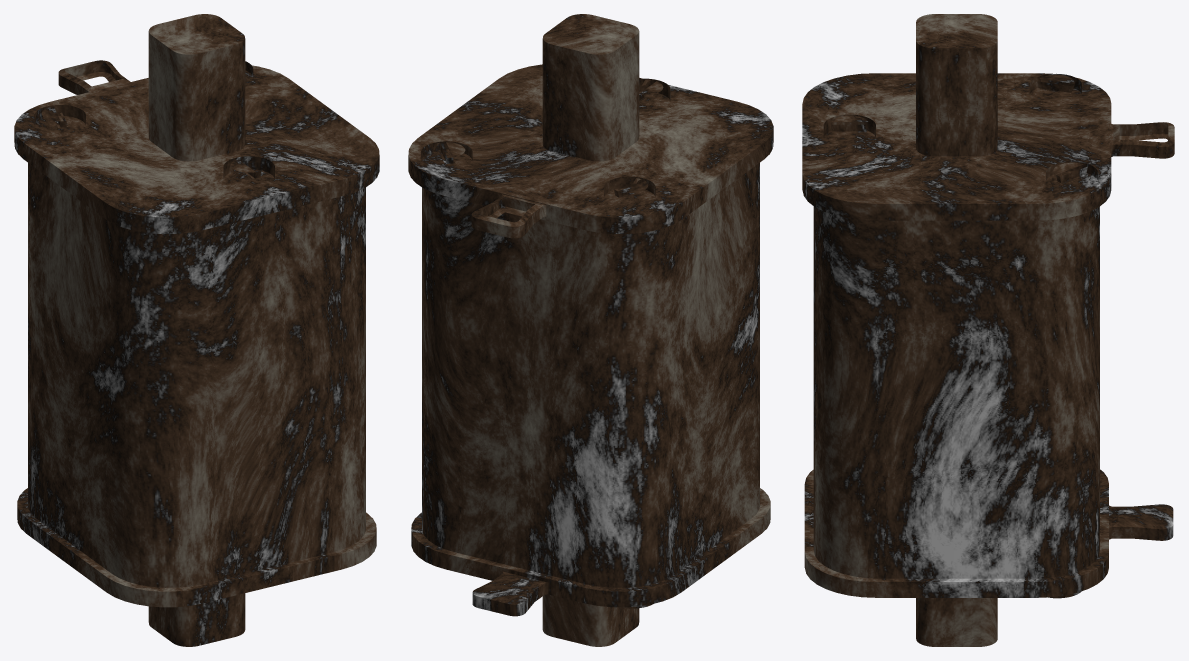
The model's file is BurntFuse.fbx.
The picture shows the model from 3 angles, left to right: view 1: azimuth 30°, elevation 25°; view 2: azimuth 150°, elevation 25°; view 3: azimuth 270°, elevation 25°; orthographic projection.
Parts seen in each view (by area): view 1: Fuse.004; view 2: Fuse.004; view 3: Fuse.004.
Part boxes in pixels (box(x1,y1,x2,y2)): Fuse.004: box(14, 14, 379, 646); Fuse.004: box(408, 14, 773, 646); Fuse.004: box(802, 14, 1174, 646).
Bounding box in the file's own units: 97.54 × 208 × 117.
1 material, 1 textured.
